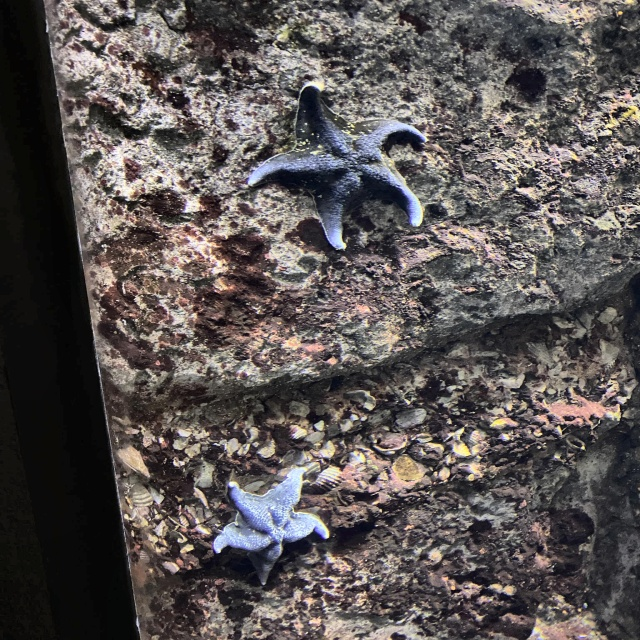starfish: (245, 80, 436, 251), (209, 464, 334, 592)
